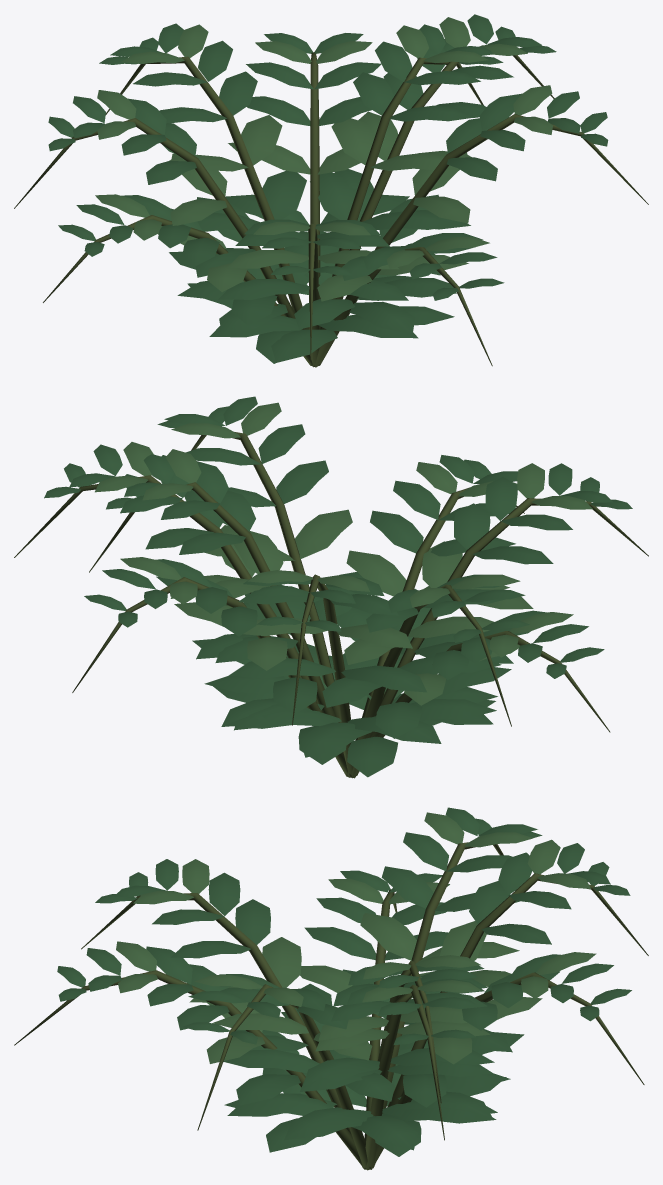
The model's file is fern-bower.glb.
The picture shows the model from 3 angles, top to bottom: view 1: azimuth 30°, elevation 25°; view 2: azimuth 150°, elevation 25°; view 3: azimuth 270°, elevation 25°; orthographic projection. The views are drawn at different scales.
Visible parts, largest first — view 1: RF06B fern-bower; view 2: RF06B fern-bower; view 3: RF06B fern-bower.
Boxes of the visible parts, left/top/right/bottom form: RF06B fern-bower: left=14, top=14, right=648, bottom=367; RF06B fern-bower: left=14, top=396, right=648, bottom=778; RF06B fern-bower: left=14, top=807, right=648, bottom=1170.
Bounding box in the file's own units: 1.51 × 0.7178 × 1.48.
